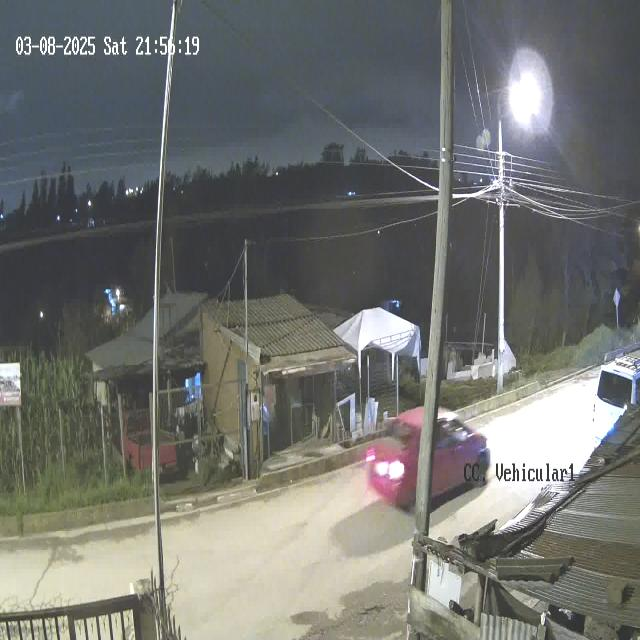SED: (360, 403, 488, 510)
